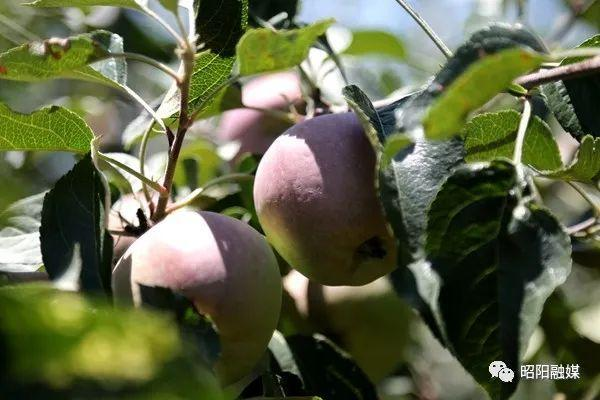apple: (104, 210, 284, 369), (251, 110, 410, 288)
